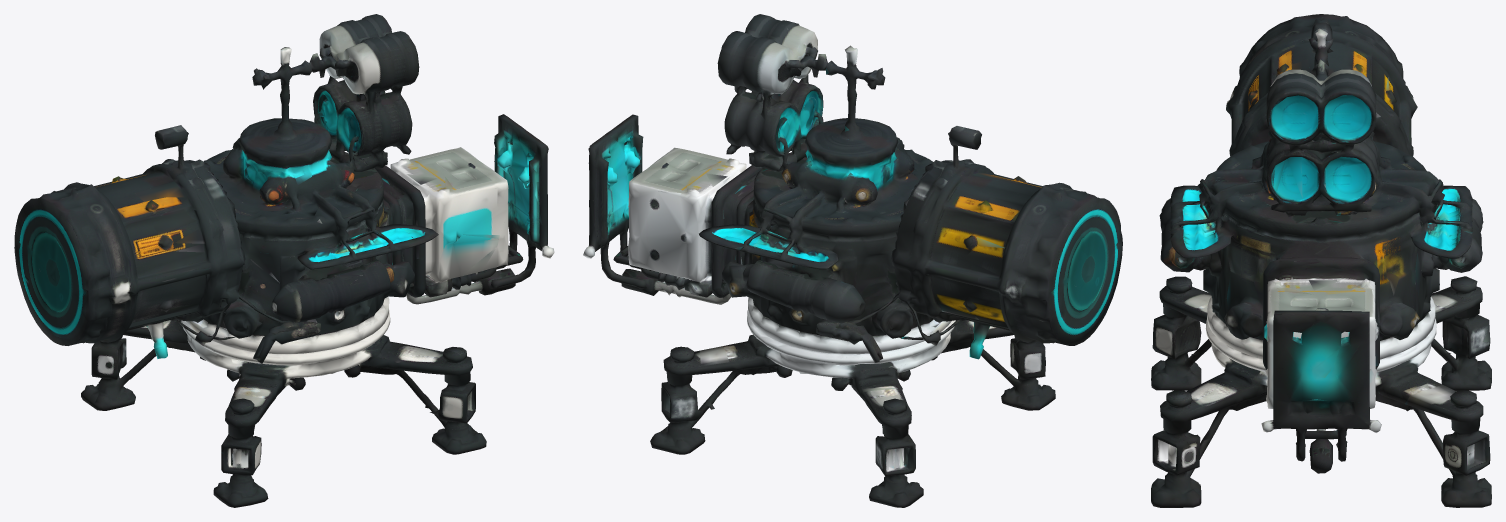
The model's file is operations-scan-rig.glb.
3 views of the same model, side by side, from view 1: azimuth 30°, elevation 25°; view 2: azimuth 150°, elevation 25°; view 3: azimuth 270°, elevation 25° (orthographic). The views are drawn at different scales.
Bounding box in the file's own units: 1.91 × 1.42 × 1.08.
1 material, 1 textured.
